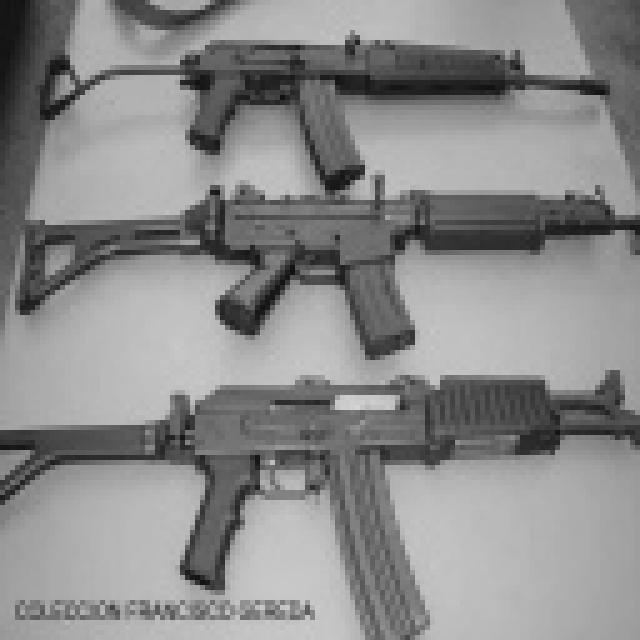Rifle: (0, 342, 640, 640), (0, 150, 640, 356), (0, 0, 640, 178)
